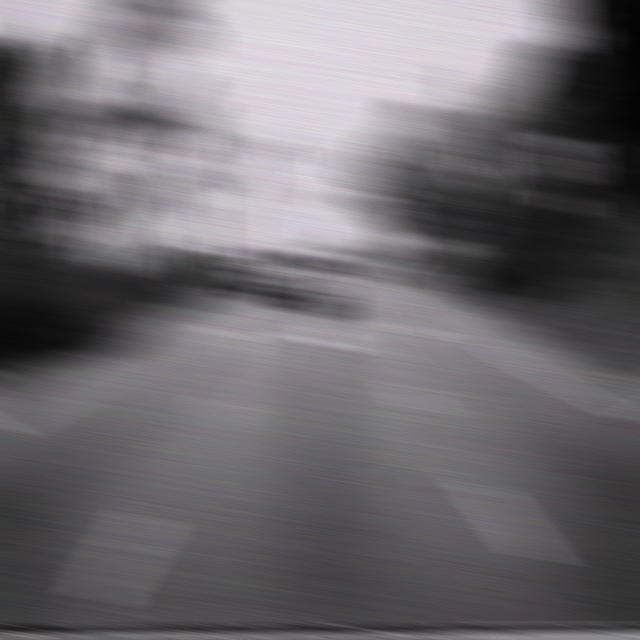pedestrianCrossing: (453, 134, 508, 198)
